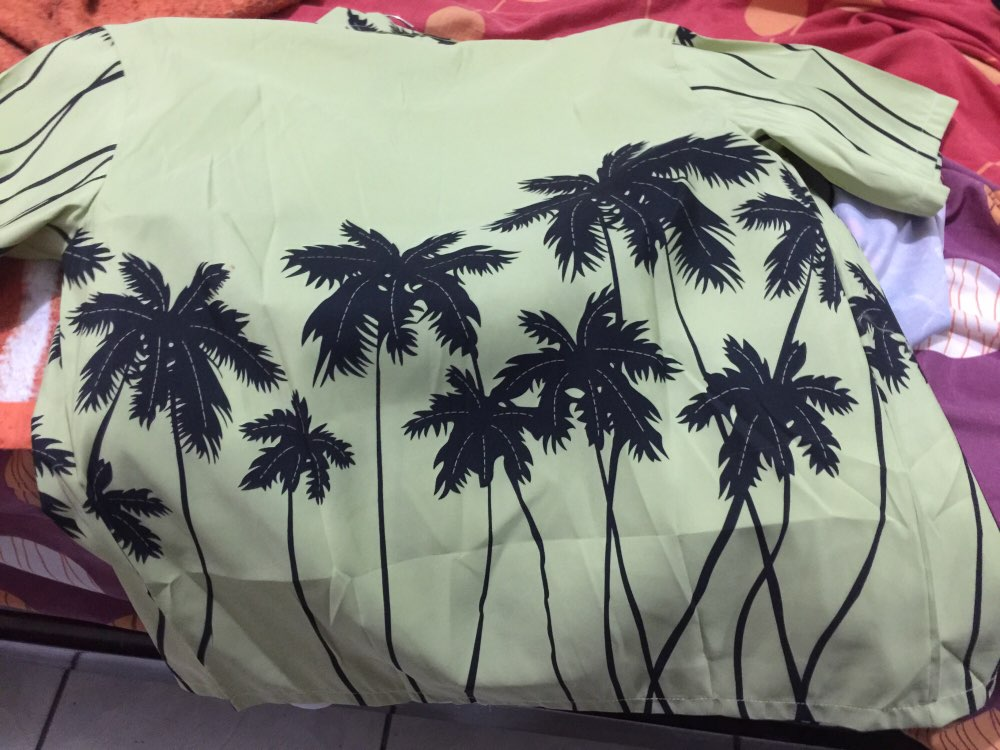shirts: (39, 14, 1000, 712)
